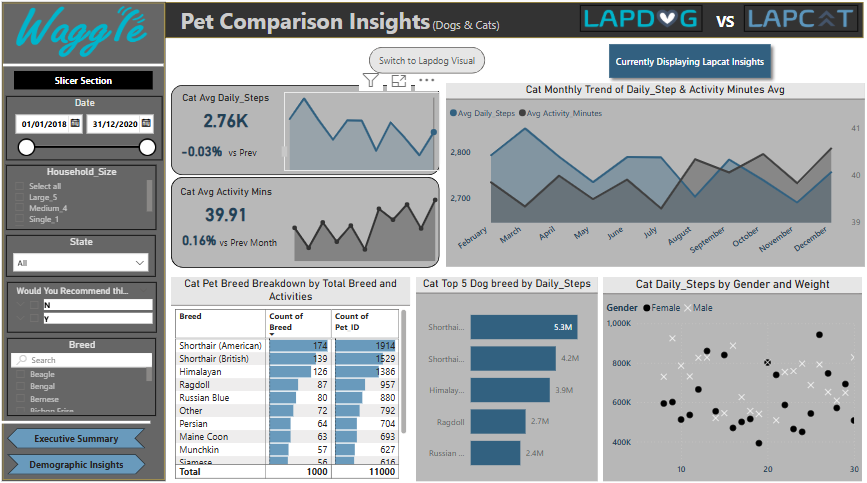

This screenshot's page, from the dashboard's own definition file:
{"tool":"powerbi","page":{"name":"Pet Comparison Insights","canvas":[1280,720],"ordinal":1},"visuals":[{"type":"shape","box":[246.2,6.8,1022,52.8],"z":0},{"type":"shape","box":[255,262.8,392.8,132.9],"z":1000},{"type":"areaChart","title":"Dog Monthly Trend of Daily_Step & Activity Minutes Avg","fields":{"Category":["Date_Table.Date.Variation.Date Hierarchy.Month"],"Y":["Avg(Tracker_Data.Daily_Steps)"],"Y2":["Avg(Tracker_Data.Activity_Minutes)"]},"box":[656.9,125.3,612.9,270.9],"z":2000},{"type":"image","title":"Lapdog Image Exec","box":[853.8,11.3,178.6,38.7],"z":3000},{"type":"scatterChart","title":"Dog Daily_Steps by Gender and Weight","fields":{"Series":["Pet_Data.Gender"],"X":["Pet_Data.Weight"],"Y":["Sum(Tracker_Data.Daily_Steps)"]},"box":[890.6,411.4,377.6,298],"z":4000},{"type":"barChart","title":"Dog Top 5 Dog breed by Daily_Steps","fields":{"Category":["Pet_Data.Breed"],"Y":["Sum(Tracker_Data.Daily_Steps)"]},"box":[607.8,411.4,267.5,298],"z":5000},{"type":"shape","box":[255,129,393.8,131.9],"z":6000},{"type":"card","title":"Dog Avg Daily Steps","fields":{"Values":["CountNonNull(Tracker_Data.Pet_ID)"]},"box":[262.8,135.8,143.6,70.4],"z":7000},{"type":"card","title":"Dog Avg Activity Mins","fields":{"Values":["Avg(Tracker_Data.Activity_Minutes)"]},"box":[255,268.7,154.4,72.3],"z":8000},{"type":"areaChart","title":"Dog Activity_Minutes by Month_Short","fields":{"Category":["Date_Table.Month_Short"],"Y":["Sum(Tracker_Data.Activity_Minutes)"]},"box":[406.5,271.6,241.3,115.3],"z":9000},{"type":"areaChart","title":"Dog Average of Daily_Steps by Month","fields":{"Category":["Date_Table.Date.Variation.Date Hierarchy.Month"],"Y":["Avg(Tracker_Data.Daily_Steps)"]},"box":[406.3,133.8,242.1,116.8],"z":10000},{"type":"image","box":[1093.6,12,166.7,39.4],"z":11000},{"type":"tableEx","title":"Dog Pet Breed Breakdown by Total Breed and Activities","fields":{"Values":["Pet_Data.Breed","CountNonNull(Pet_Data.Breed)","Tracker_Data.Pet_ID"]},"box":[262.4,408,333.5,298],"z":12000},{"type":"textbox","box":[302.9,343,106.5,29.3],"z":13000},{"type":"card","title":"Dog Card","fields":{"Values":["03_Dax Measures.Average Activity MoM % - Dog"]},"box":[255,338.1,54.7,42],"z":14000},{"type":"card","title":"Dog Card","fields":{"Values":["03_Dax Measures.Average Daily_Step MoM % - Dog"]},"box":[255,206.2,54.7,43],"z":15000},{"type":"textbox","box":[302.9,213,103.6,38.1],"z":16000},{"type":"actionButton","title":"Lapcat Button On","box":[954.9,73,158.6,38.8],"z":29000},{"type":"actionButton","title":"Lapdog Button On","box":[503.1,59.3,247.6,61.6],"z":32000},{"type":"shape","title":"Waggle logo","box":[6.8,6.8,239,700.6],"z":33000},{"type":"image","box":[21.5,6.8,203.2,86],"z":34000},{"type":"textbox","box":[1034.7,16,61.6,43.4],"z":35000},{"type":"shape","box":[8.8,92.8,235.5,14.7],"z":36000},{"type":"shape","box":[5.1,614.6,220.1,15.2],"z":37000},{"type":"textbox","box":[24.4,108.5,203.2,27.4],"z":38000},{"type":"pageNavigator","title":"Page navigator1","box":[14.7,668.3,203.2,30.3],"z":39000},{"type":"pageNavigator","title":"Page navigator1","box":[14.7,630.2,203.2,30.3],"z":40000},{"type":"slicer","title":"Date","fields":{"Values":["Date_Table.Date"]},"box":[12.7,145.6,228.6,93.8],"z":41000},{"type":"slicer","title":"Household_Size","fields":{"Values":["Family_Data.Household Category"]},"box":[13.7,246.2,219.8,94.8],"z":42000},{"type":"slicer","title":"State","fields":{"Values":["Family_Data.State"]},"box":[13.7,347.8,218.9,60.6],"z":43000},{"type":"slicer","title":"Slicer Would you Recommend","fields":{"Values":["Rating_Data.Would You Recommend this Product?","Rating_Data.Where Did You Buy This Product?"]},"box":[14.7,417.2,218.9,74.3],"z":44000},{"type":"slicer","title":"Breed","fields":{"Values":["Pet_Data.Breed"]},"box":[14.7,498.3,217.9,114.3],"z":45000},{"type":"textbox","box":[263.4,7.3,570.7,52.7],"z":46000}]}

Visuals, with their boxes in screenshot pixels (x1, y1, x2, y2), scaled from the page's 1280x720 canvas onto the 867x483 screenshot:
shape: box(167, 5, 859, 40)
shape: box(173, 176, 439, 265)
"Dog Monthly Trend of Daily_Step & Activity Minutes Avg" areaChart: box(445, 84, 860, 266)
"Lapdog Image Exec" image: box(578, 8, 699, 34)
"Dog Daily_Steps by Gender and Weight" scatterChart: box(603, 276, 859, 476)
"Dog Top 5 Dog breed by Daily_Steps" barChart: box(412, 276, 593, 476)
shape: box(173, 87, 439, 175)
"Dog Avg Daily Steps" card: box(178, 91, 275, 138)
"Dog Avg Activity Mins" card: box(173, 180, 277, 229)
"Dog Activity_Minutes by Month_Short" areaChart: box(275, 182, 439, 260)
"Dog Average of Daily_Steps by Month" areaChart: box(275, 90, 439, 168)
image: box(741, 8, 854, 34)
"Dog Pet Breed Breakdown by Total Breed and Activities" tableEx: box(178, 274, 404, 474)
textbox: box(205, 230, 277, 250)
"Dog Card" card: box(173, 227, 210, 255)
"Dog Card" card: box(173, 138, 210, 167)
textbox: box(205, 143, 275, 168)
"Lapcat Button On" actionButton: box(647, 49, 754, 75)
"Lapdog Button On" actionButton: box(341, 40, 508, 81)
"Waggle logo" shape: box(5, 5, 166, 475)
image: box(15, 5, 152, 62)
textbox: box(701, 11, 743, 40)
shape: box(6, 62, 165, 72)
shape: box(3, 412, 153, 422)
textbox: box(17, 73, 154, 91)
"Page navigator1" pageNavigator: box(10, 448, 148, 469)
"Page navigator1" pageNavigator: box(10, 423, 148, 443)
"Date" slicer: box(9, 98, 163, 161)
"Household_Size" slicer: box(9, 165, 158, 229)
"State" slicer: box(9, 233, 158, 274)
"Slicer Would you Recommend" slicer: box(10, 280, 158, 330)
"Breed" slicer: box(10, 334, 158, 411)
textbox: box(178, 5, 565, 40)
